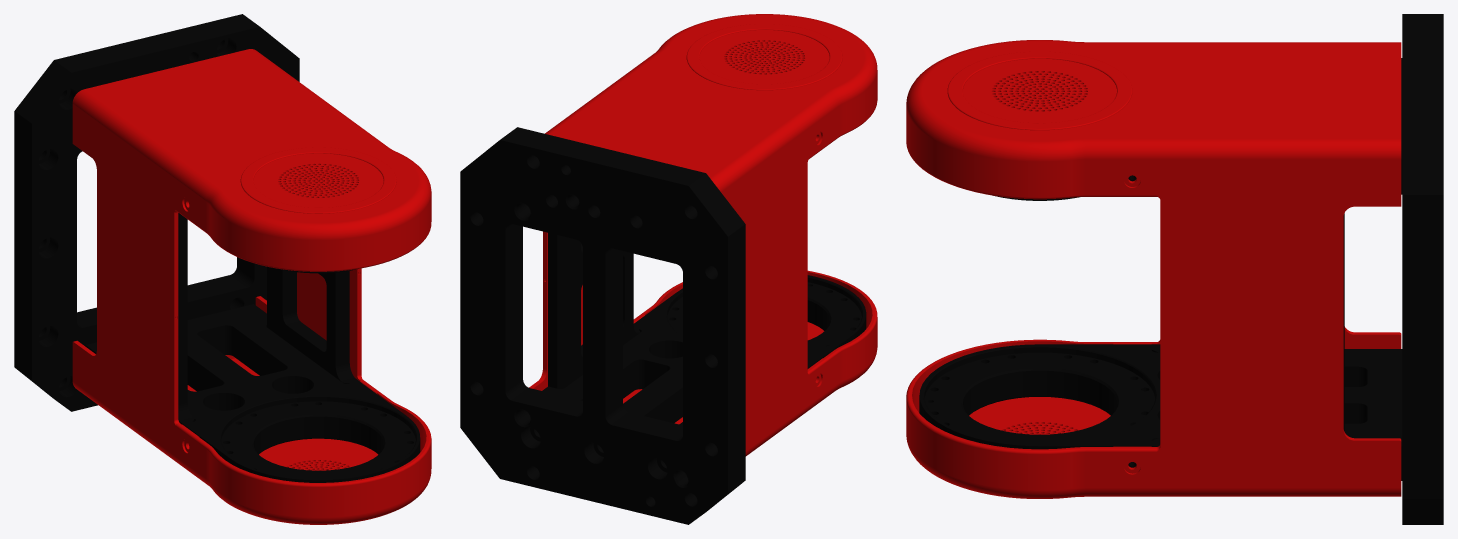
3 renders of one model, left to right at view 1: azimuth 30°, elevation 25°; view 2: azimuth 150°, elevation 25°; view 3: azimuth 270°, elevation 25°, orthographic. The views are drawn at different scales.
Parts seen in each view (by area): view 1: base; view 2: base; view 3: base.
Part boxes in pixels (x1,y1,x2,y2): base: (14, 14, 431, 524); base: (460, 14, 877, 524); base: (906, 14, 1443, 524).
Bounding box in the file's own units: 0.19 × 0.23 × 0.2789.
